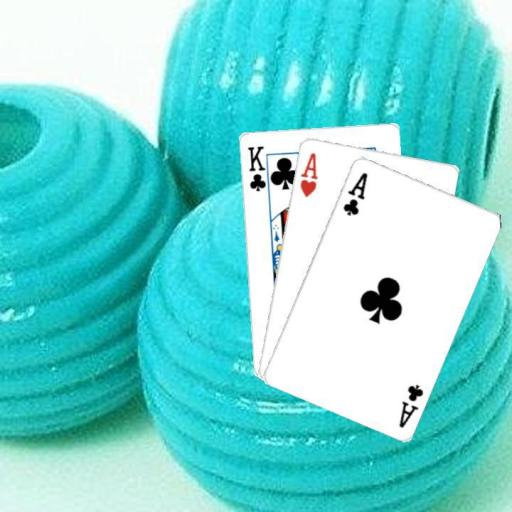AC: (339, 168, 369, 217), (396, 380, 425, 429)
AH: (297, 150, 320, 199)
KC: (245, 143, 272, 196)
